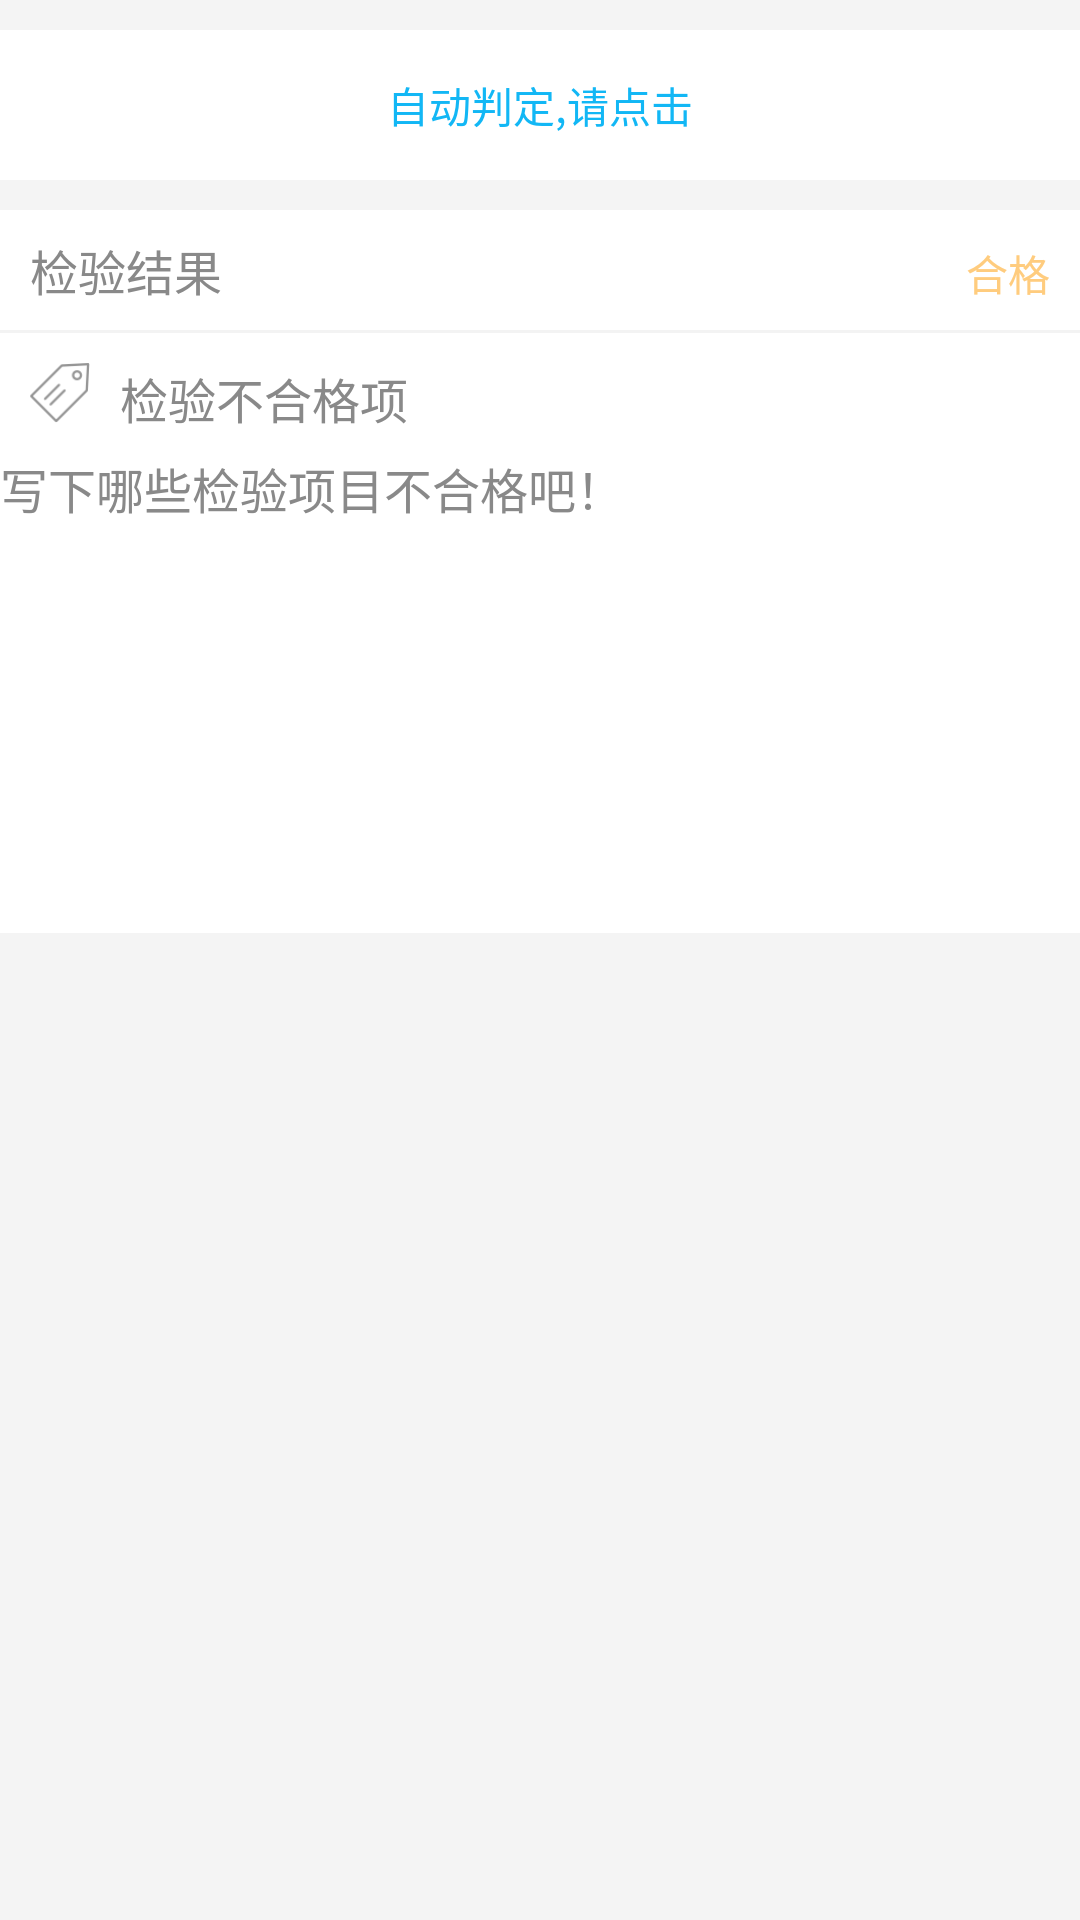

Icon click points for this 1080 x 1920 phone screenshot, format point (x, y):
topic: point (60, 392)
